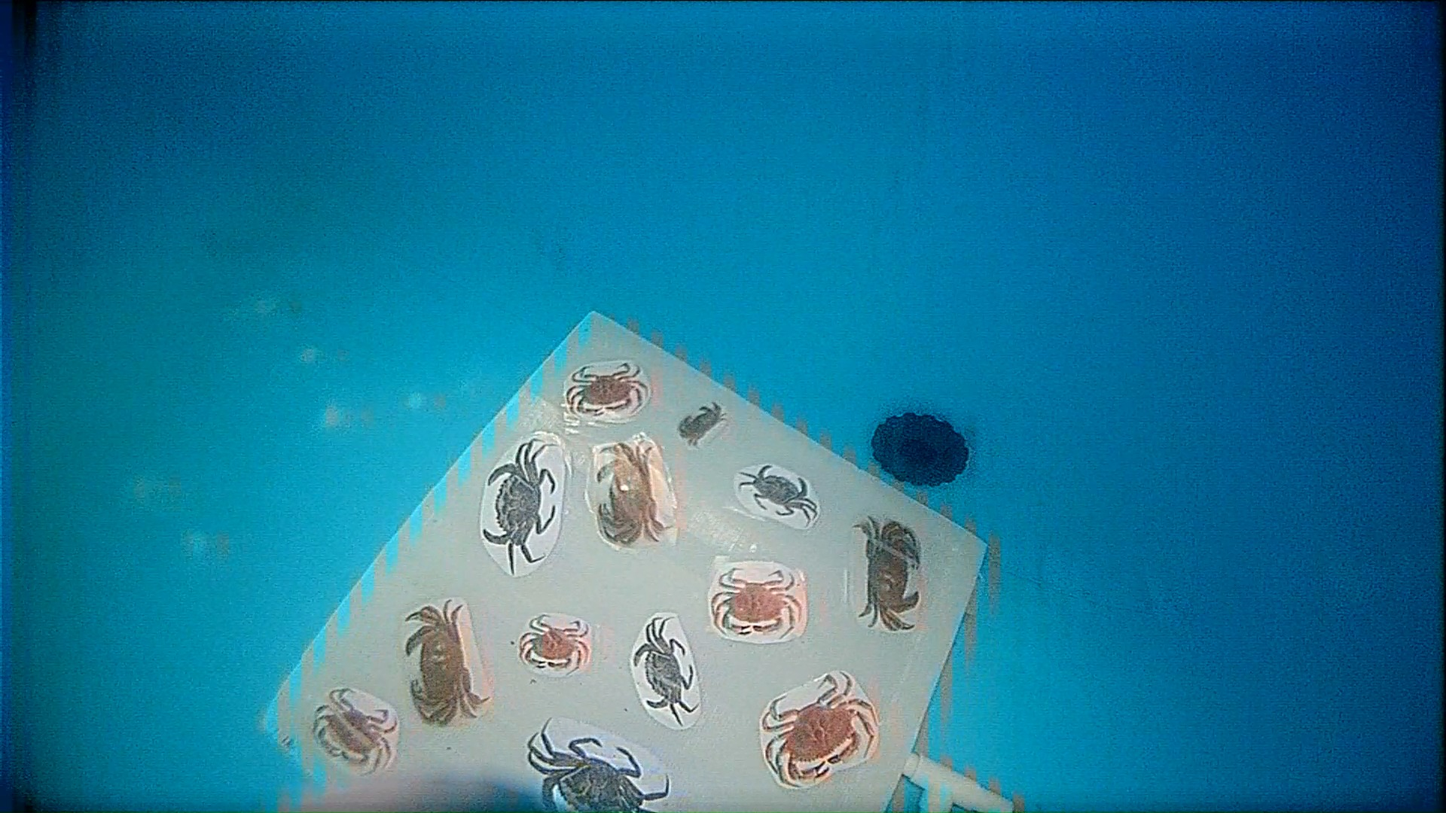GreenCrab: (482, 440, 557, 575), (743, 464, 817, 517)
